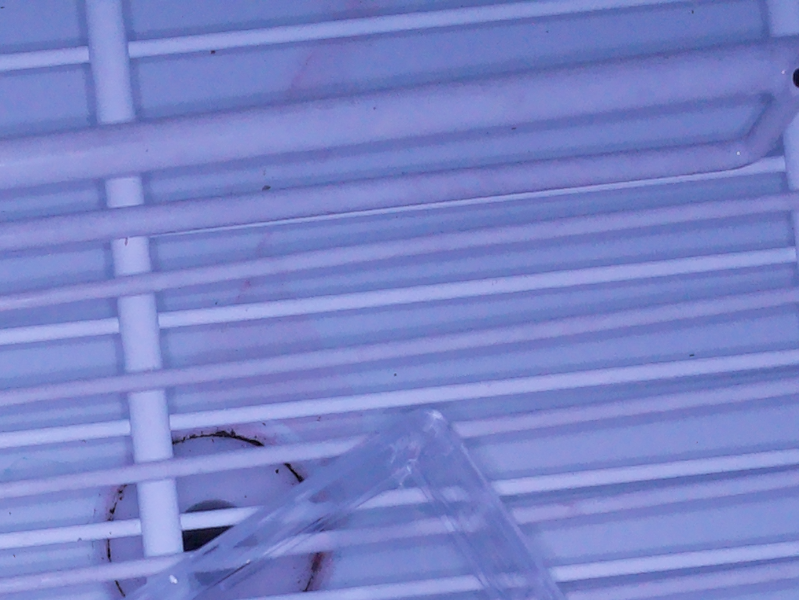plate: (103, 399, 570, 600)
